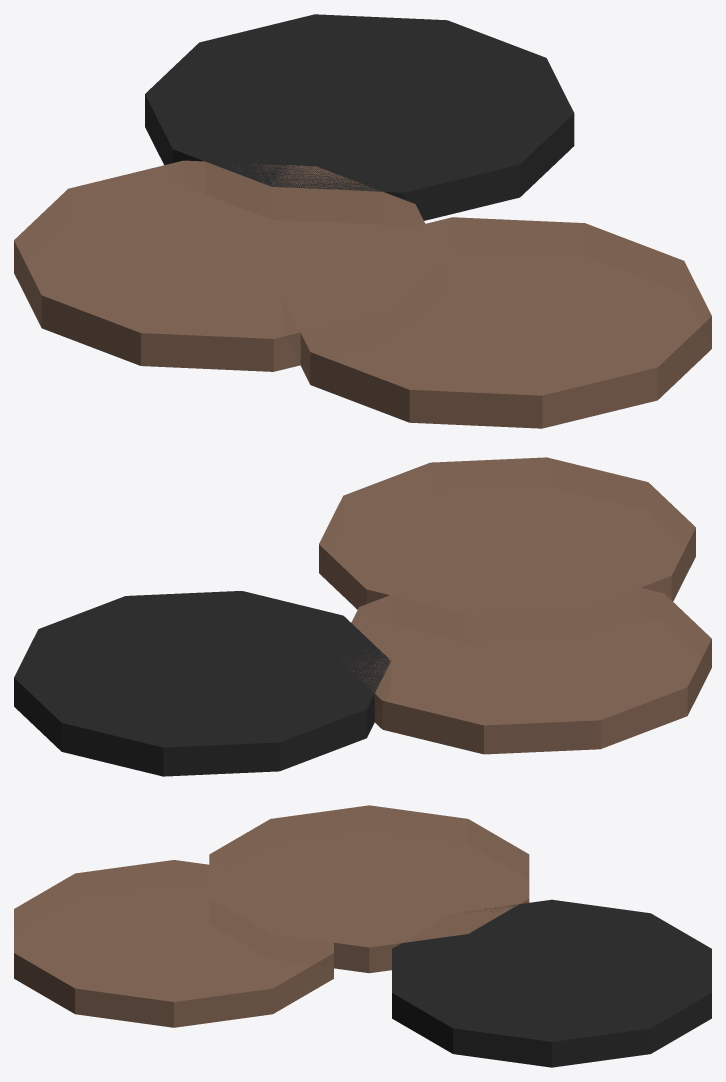
The model's file is Mess3.fbx.
3 views of the same model, one above another, from view 1: azimuth 30°, elevation 25°; view 2: azimuth 150°, elevation 25°; view 3: azimuth 270°, elevation 25° (orthographic). The views are drawn at different scales.
Parts seen in each view (by area): view 1: group2_pasted__group_pasted__pasted__pCylinder1; view 2: group2_pasted__group_pasted__pasted__pCylinder1; view 3: group2_pasted__group_pasted__pasted__pCylinder1.
Part boxes in pixels (left/top/right/bottom): group2_pasted__group_pasted__pasted__pCylinder1: left=14, top=14, right=711, bottom=428; group2_pasted__group_pasted__pasted__pCylinder1: left=14, top=457, right=711, bottom=776; group2_pasted__group_pasted__pasted__pCylinder1: left=14, top=805, right=711, bottom=1067.
Bounding box in the file's own units: 17.45 × 0.8843 × 21.75.
